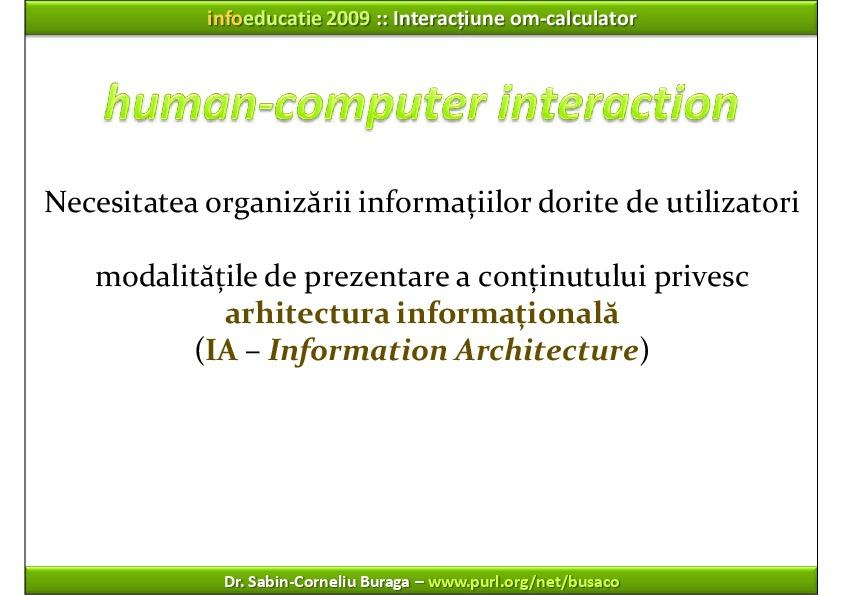subtitle: (82, 237, 786, 400), (91, 71, 752, 147), (38, 177, 806, 227)
title: (197, 2, 643, 40)
